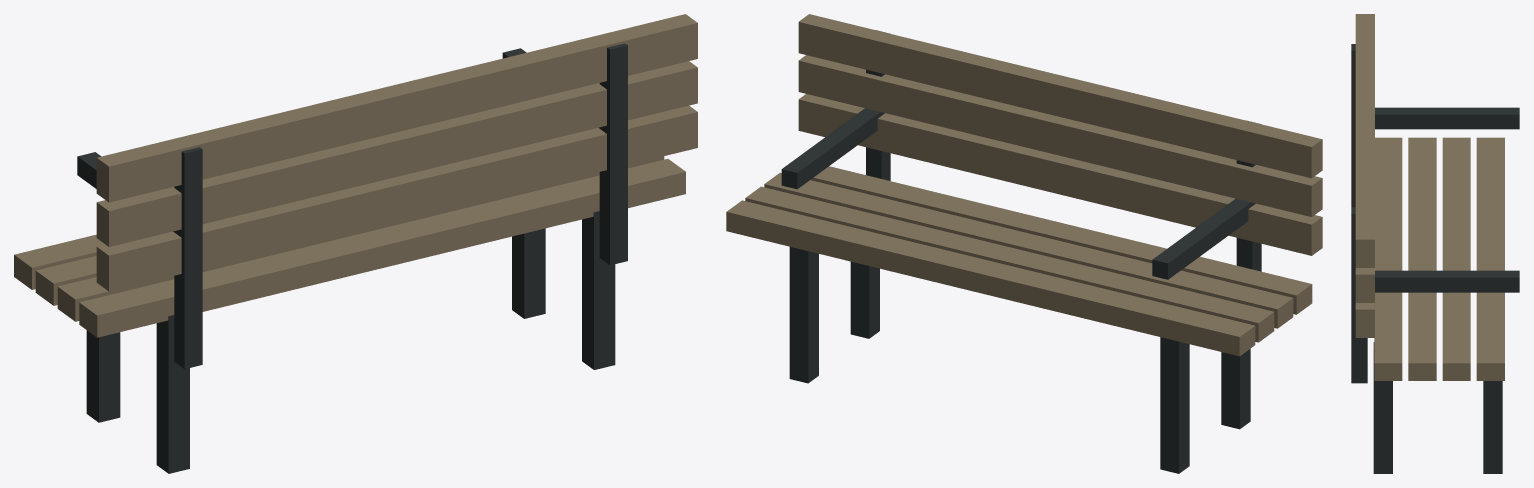
File: SAF_BENCH_NORMAL_01.fbx
3 views of the same model, side by side, from view 1: azimuth 30°, elevation 25°; view 2: azimuth 150°, elevation 25°; view 3: azimuth 270°, elevation 25° (orthographic). The views are drawn at different scales.
Visible parts, largest first — view 1: SAF_BENCH_NORMAL_01; view 2: SAF_BENCH_NORMAL_01; view 3: SAF_BENCH_NORMAL_01.
Boxes of the visible parts, bbox=[...] form: SAF_BENCH_NORMAL_01: bbox=[14, 14, 697, 473]; SAF_BENCH_NORMAL_01: bbox=[726, 14, 1322, 473]; SAF_BENCH_NORMAL_01: bbox=[1351, 14, 1519, 473].
Bounding box in the file's own units: 180 × 97.25 × 56.75.
